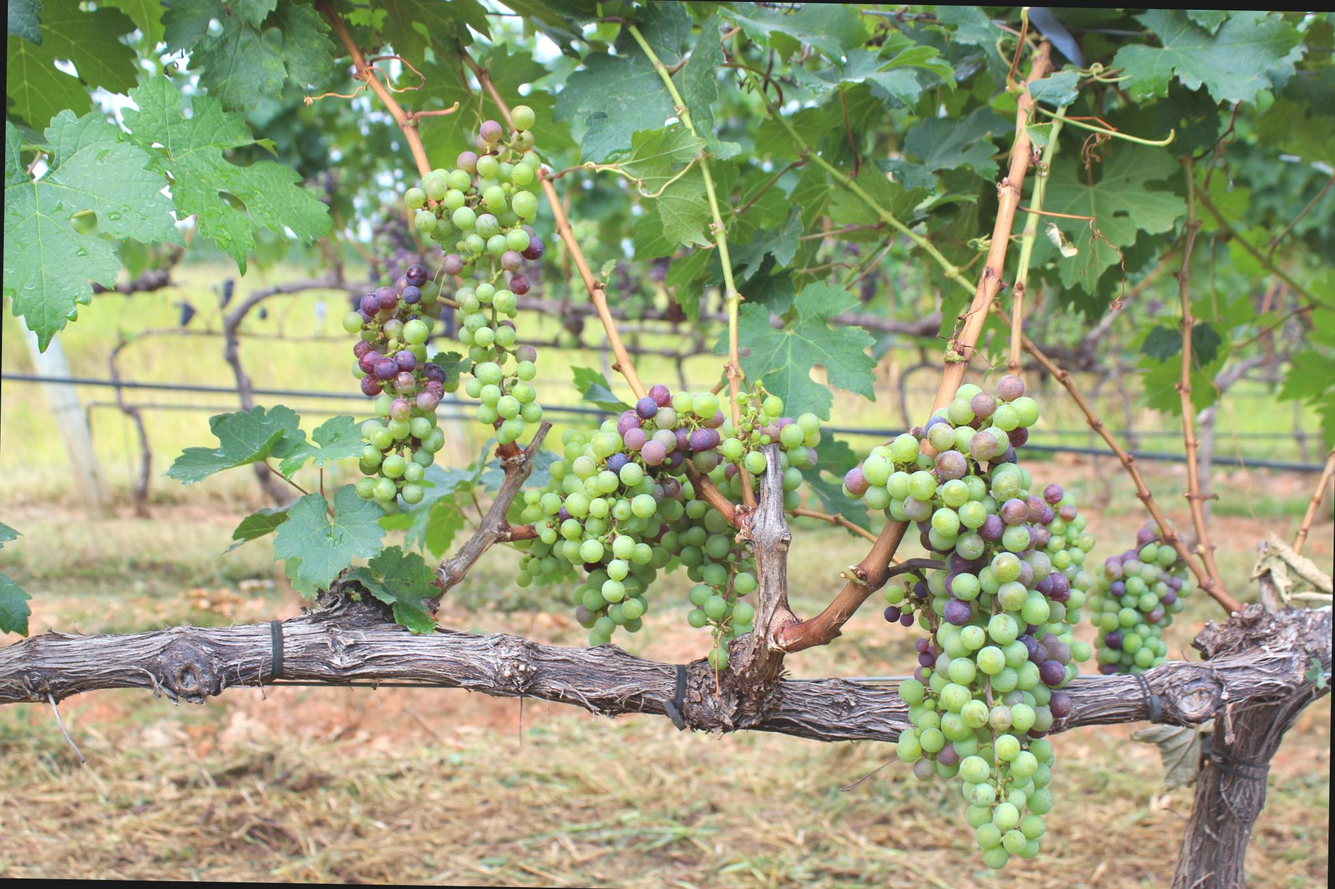Grape Unripe: (846, 374, 1065, 865), (393, 106, 550, 451), (636, 383, 763, 662), (341, 269, 469, 503), (524, 417, 652, 651), (1077, 514, 1182, 675), (1031, 473, 1098, 574)
